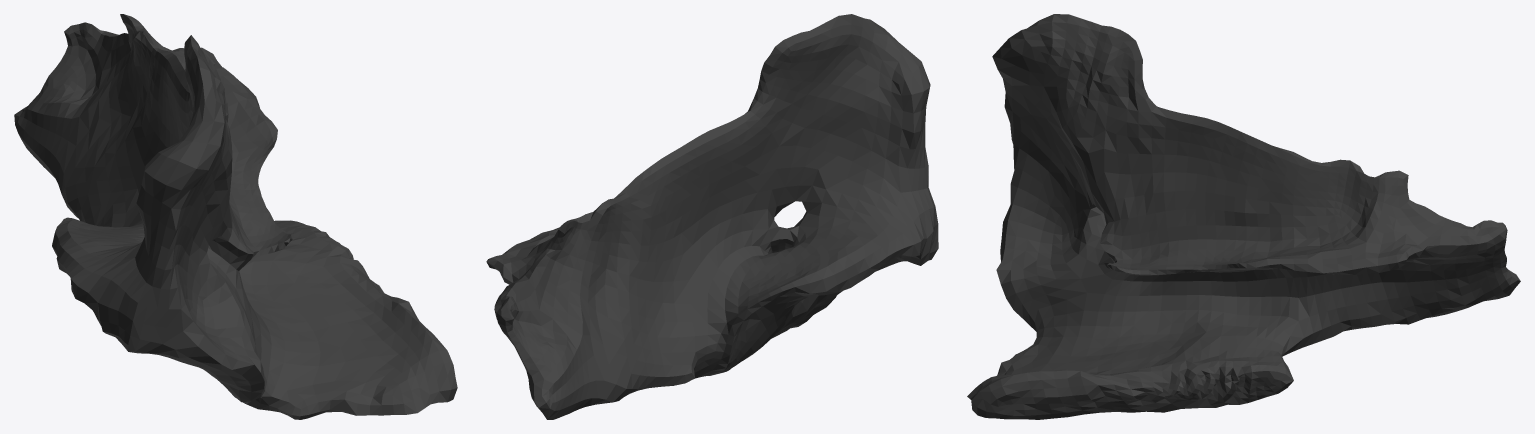
File: Palatine_R.glb
3 views of the same model, side by side, from view 1: azimuth 30°, elevation 25°; view 2: azimuth 150°, elevation 25°; view 3: azimuth 270°, elevation 25° (orthographic). The views are drawn at different scales.
Visible parts, largest first — view 1: Palatine_R; view 2: Palatine_R; view 3: Palatine_R.
Part boxes in pixels (x1=…): Palatine_R: x1=14, y1=14, x2=457, y2=419; Palatine_R: x1=486, y1=14, x2=938, y2=419; Palatine_R: x1=967, y1=14, x2=1520, y2=419.
Bounding box in the file's own units: 169 × 174 × 273.
1 material, 1 textured.
